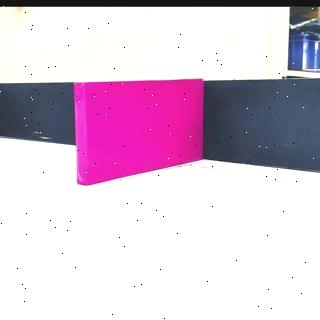xparking: (74, 80, 202, 161)
